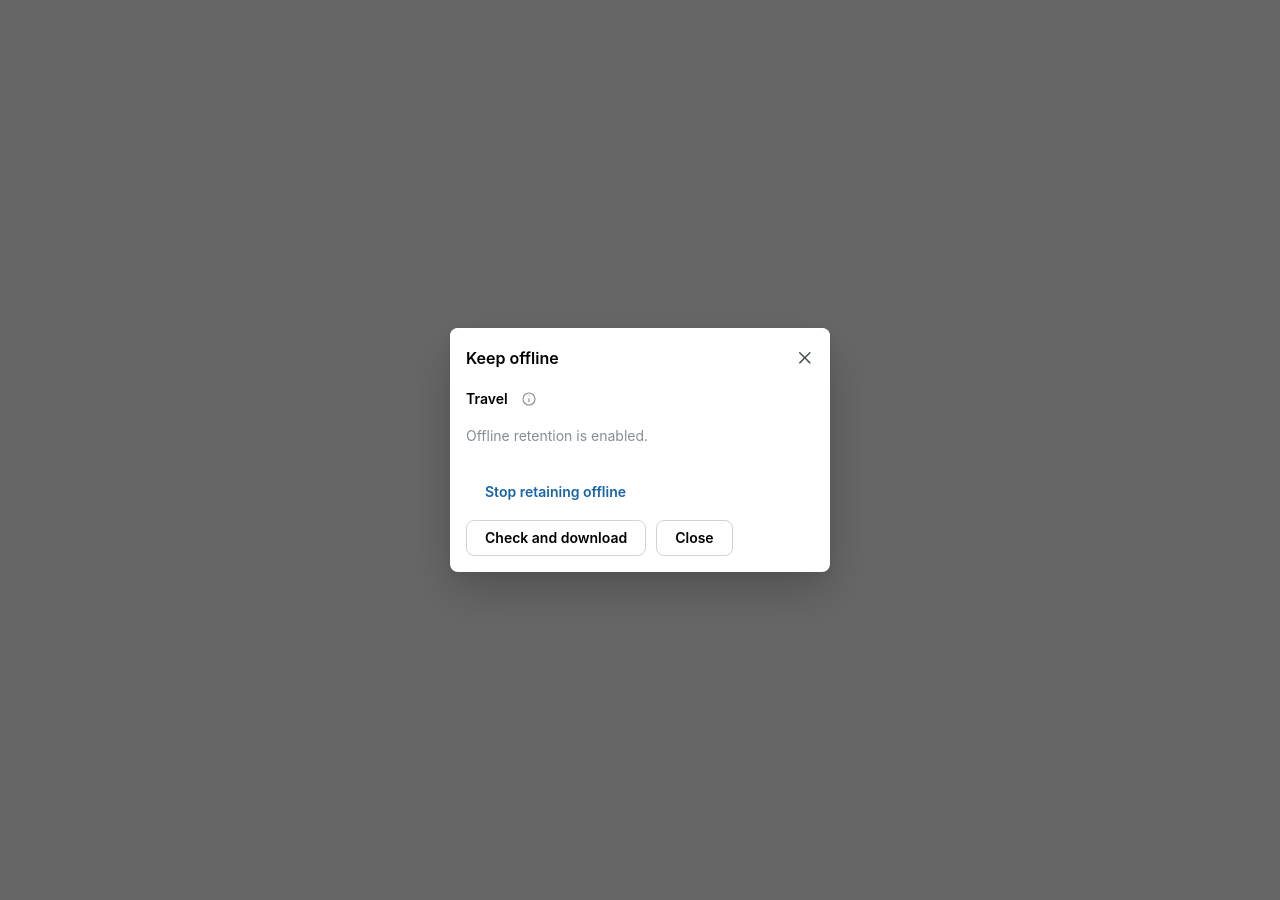
Test: does not let an earlier availability read overwrite completed preparation
What coordinates should you click on to do the following:
click the button "Check and download"
I would click on:
 (556, 538)
Its box is [466, 520, 646, 556].
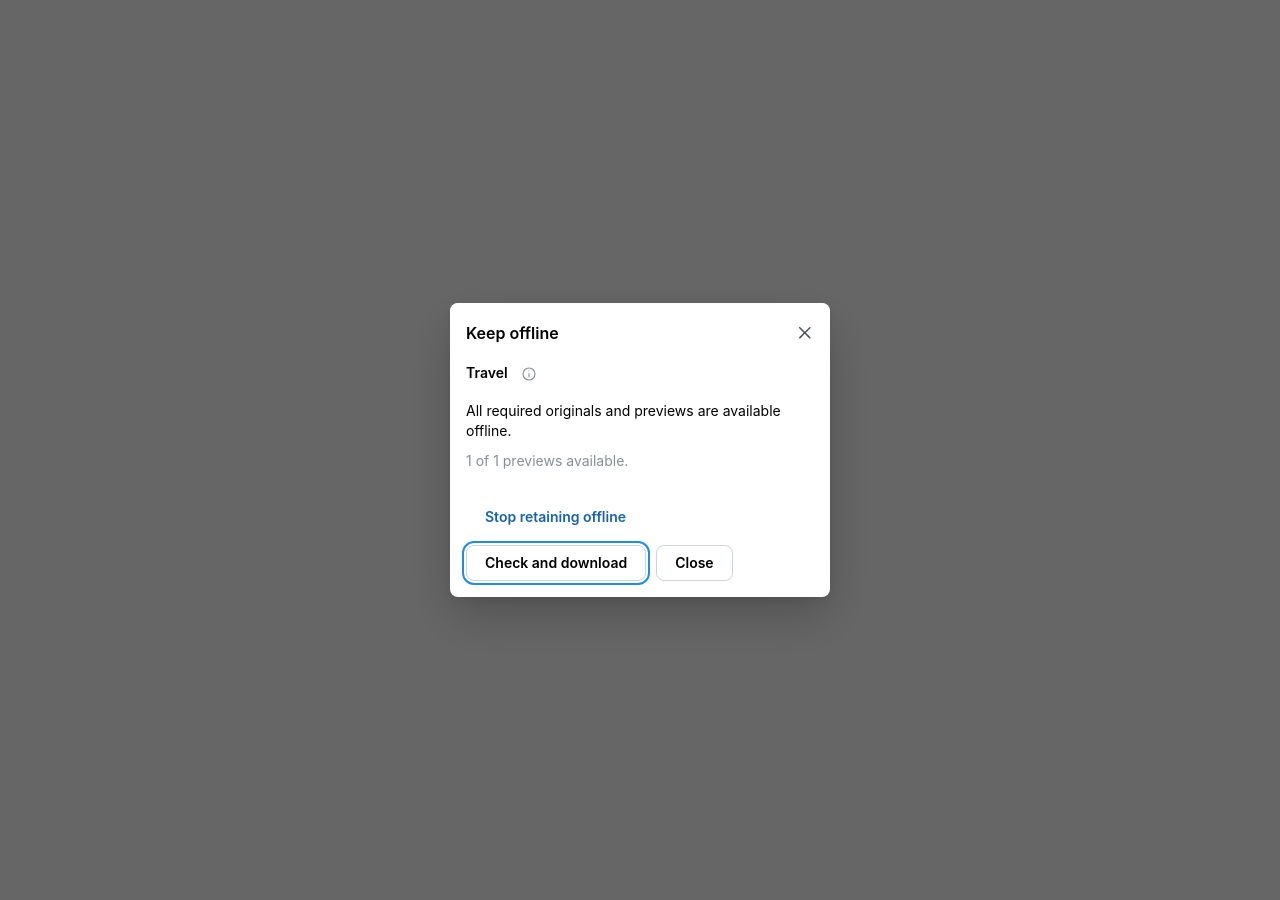
Expected: the button "Check and download" is enabled, [466, 545, 646, 581]
Now the text "All required originals and previews are available offline." is shown, box [466, 400, 814, 441]
